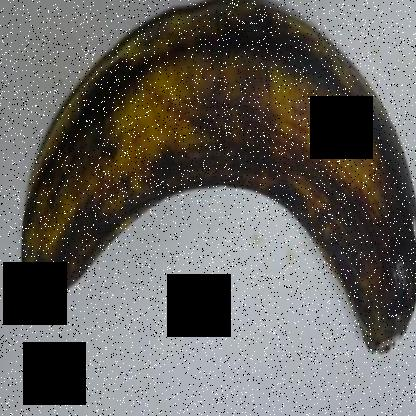overripe: (10, 1, 415, 366)
rotten: (351, 174, 415, 374)
